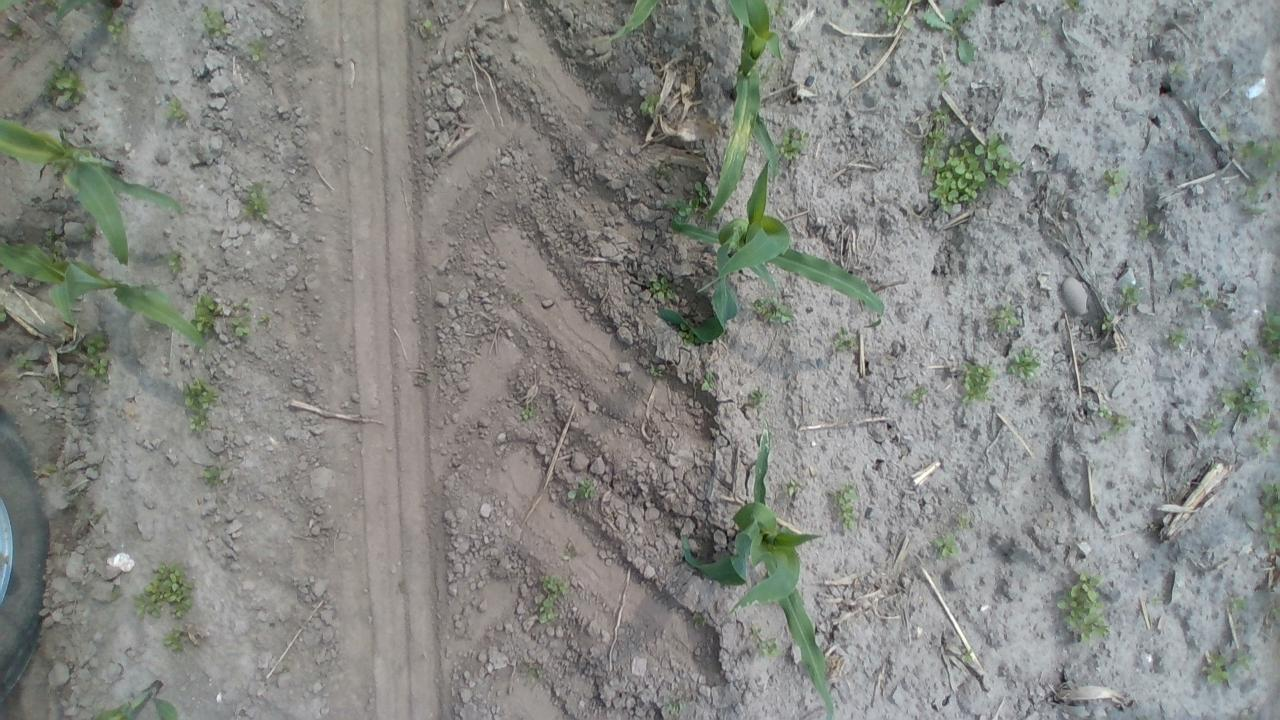Maize: (679, 423, 838, 720), (648, 155, 886, 345), (0, 118, 183, 268), (0, 234, 209, 356), (692, 0, 790, 235), (82, 680, 180, 720), (596, 0, 659, 43), (56, 0, 127, 30)
Weeds: (923, 104, 1024, 212), (1056, 572, 1112, 648), (131, 560, 197, 622), (922, 3, 981, 65), (1218, 378, 1270, 421), (182, 375, 218, 434), (42, 66, 86, 108), (1204, 646, 1252, 684), (536, 574, 570, 624), (80, 331, 113, 381), (1258, 480, 1280, 550), (1088, 400, 1130, 436), (670, 183, 706, 224), (962, 362, 997, 404), (751, 295, 798, 326), (832, 481, 859, 531), (1237, 139, 1280, 169), (1242, 173, 1271, 217), (1008, 345, 1042, 381), (777, 123, 810, 160), (242, 182, 272, 222), (198, 7, 234, 40), (1260, 308, 1280, 365), (874, 1, 912, 28), (750, 626, 780, 660), (192, 294, 218, 333), (990, 301, 1020, 333), (231, 298, 252, 343), (1100, 166, 1128, 198), (648, 277, 679, 302), (1253, 427, 1280, 455), (676, 322, 705, 348), (930, 534, 961, 558), (636, 92, 664, 117), (1237, 348, 1262, 376), (44, 228, 66, 259), (166, 97, 192, 123), (1120, 281, 1144, 309), (568, 478, 598, 500), (1200, 413, 1226, 437), (831, 326, 854, 352), (162, 627, 185, 652), (1165, 326, 1190, 349), (201, 463, 224, 487), (244, 39, 266, 64), (664, 697, 686, 719), (558, 542, 580, 564), (933, 63, 953, 87), (1137, 218, 1158, 240), (782, 477, 802, 500), (38, 462, 56, 487), (168, 250, 185, 276), (75, 223, 96, 244), (107, 13, 123, 40), (2, 22, 26, 40), (652, 158, 673, 178), (767, 0, 787, 20), (16, 352, 36, 372), (1177, 271, 1196, 292), (522, 668, 548, 683), (748, 389, 768, 408), (648, 362, 668, 381), (1100, 312, 1118, 333), (50, 382, 69, 401), (1228, 594, 1248, 612), (904, 387, 928, 402), (520, 402, 537, 422), (701, 370, 717, 391), (1062, 0, 1084, 15), (954, 512, 970, 532), (1199, 293, 1217, 310), (1214, 124, 1232, 140), (1170, 62, 1186, 80), (1266, 602, 1280, 622), (959, 646, 973, 664), (258, 312, 276, 326), (420, 16, 435, 32), (422, 368, 436, 384), (1148, 595, 1162, 607), (0, 305, 7, 321)
